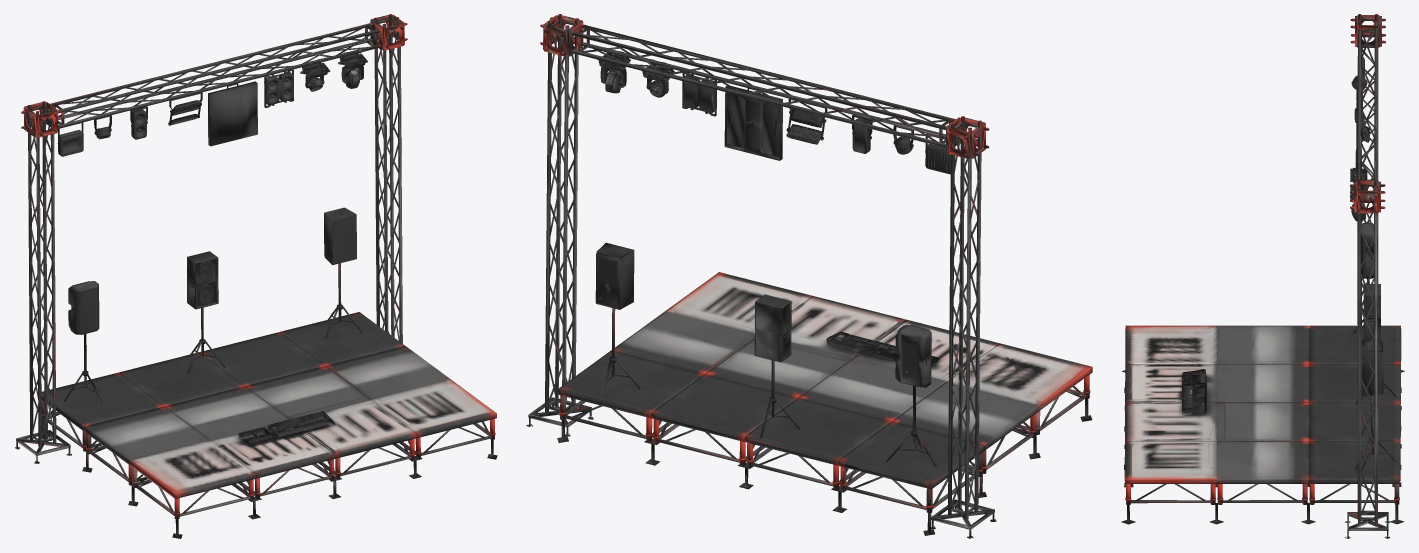
The model's file is escenario.obj.
3 views of the same model, side by side, from view 1: azimuth 30°, elevation 25°; view 2: azimuth 150°, elevation 25°; view 3: azimuth 270°, elevation 25° (orthographic). The views are drawn at different scales.
Parts seen in each view (by area): view 1: Meshy_AI__0513031207_texture_Material.026; view 2: Meshy_AI__0513031207_texture_Material.026; view 3: Meshy_AI__0513031207_texture_Material.026.
Boxes of the visible parts, box(x1,y1,x2,y2) form: Meshy_AI__0513031207_texture_Material.026: box(15, 14, 497, 538); Meshy_AI__0513031207_texture_Material.026: box(526, 14, 1092, 538); Meshy_AI__0513031207_texture_Material.026: box(1121, 14, 1404, 538).
Size of the model in its own units: 8 by 6.94 by 5.13.
Materials: 1 (1 with a texture image).
